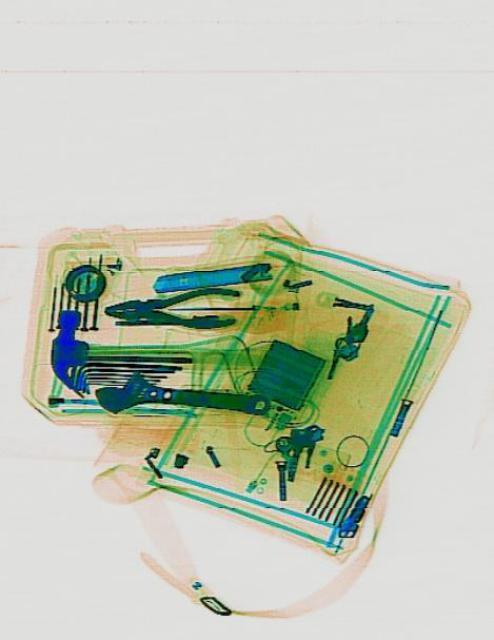Pliers: (104, 284, 239, 332)
Wrench: (94, 368, 266, 416)
